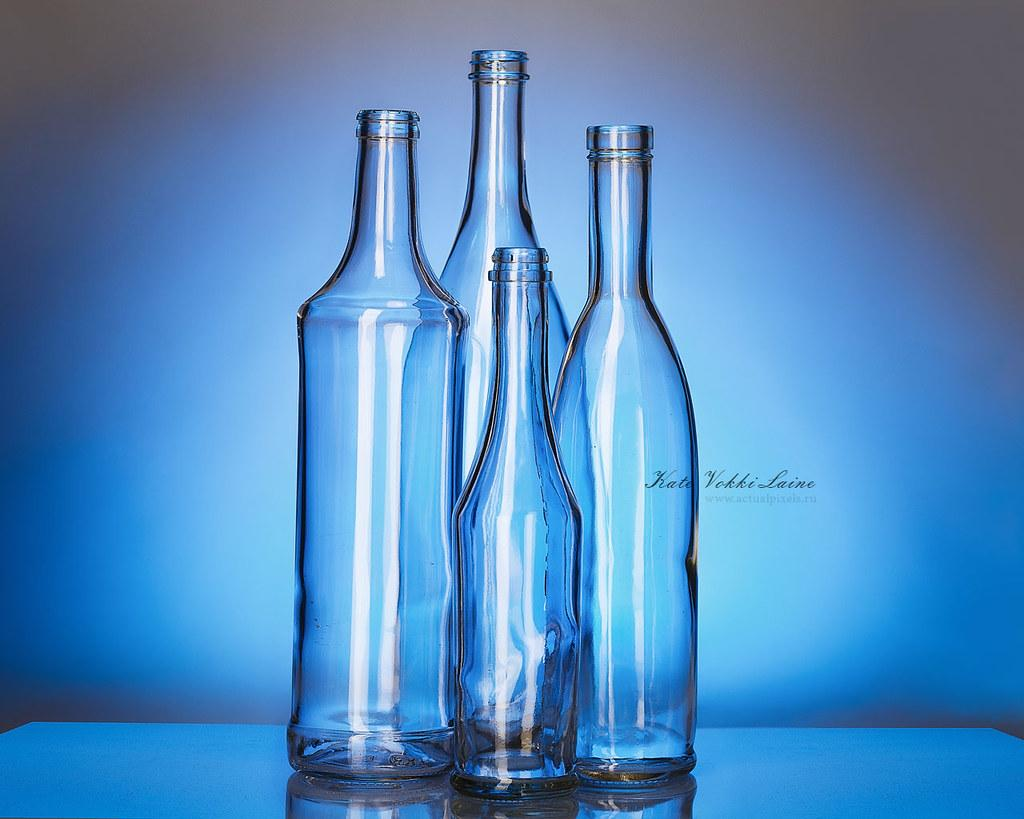bottle: (287, 107, 469, 782), (551, 123, 701, 787), (450, 245, 583, 800), (438, 49, 575, 508)
